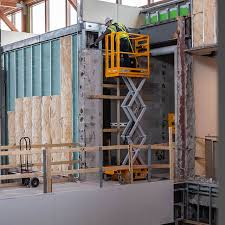Scissor Lift: (103, 31, 151, 185)
